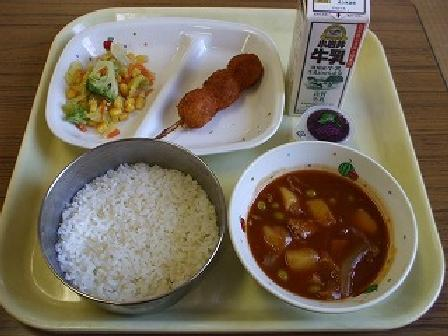Cup desserts: (292, 105, 353, 152)
Milk: (285, 3, 372, 108)
Rice: (47, 143, 223, 307)
Salad: (63, 44, 158, 134)
snacks: (153, 41, 274, 145)
vegetable soup: (239, 152, 409, 303)
